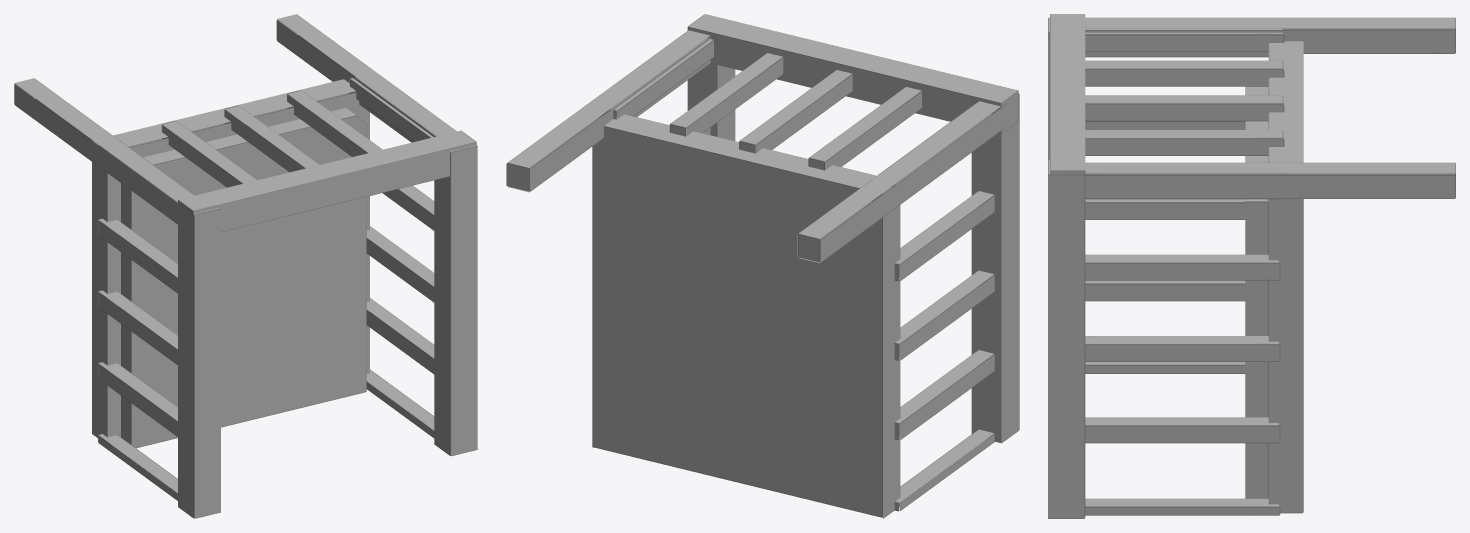
The model's file is pz_bed_bedding_01_light_wood_0_1.obj.
3 renders of one model, left to right at view 1: azimuth 30°, elevation 25°; view 2: azimuth 150°, elevation 25°; view 3: azimuth 270°, elevation 25°, orthographic. The views are drawn at different scales.
Visible parts, largest first — view 1: root; view 2: root; view 3: root.
Part boxes in pixels (x1=…): root: x1=14, y1=14, x2=477, y2=518; root: x1=506, y1=14, x2=1019, y2=518; root: x1=1048, y1=14, x2=1455, y2=518.
Size of the model in its own units: 0.95 by 0.985 by 1.04.
1 material, 1 textured.
